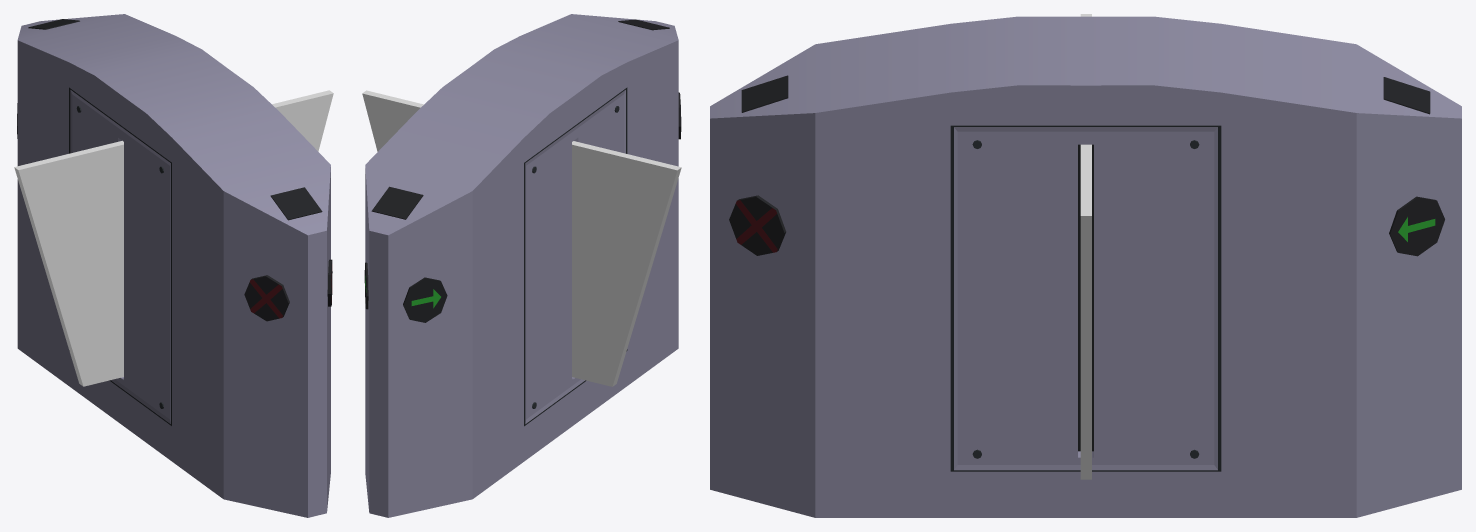
The model's file is SecurityGate-Double_01.fbx.
The picture shows the model from 3 angles, left to right: view 1: azimuth 30°, elevation 25°; view 2: azimuth 150°, elevation 25°; view 3: azimuth 270°, elevation 25°; orthographic projection. The views are drawn at different scales.
Visible parts, largest first — view 1: SecurityGate_Base_Double, Security_Gate_R, Security_Gate_L, SecurityGate_DirectionLights; view 2: SecurityGate_Base_Double, Security_Gate_R, Security_Gate_L, SecurityGate_DirectionLights; view 3: SecurityGate_Base_Double, SecurityGate_DirectionLights, Security_Gate_L.
Part boxes in pixels (x1,y1,x2,y2): SecurityGate_Base_Double: [17, 14, 330, 517]; Security_Gate_R: [14, 140, 123, 386]; Security_Gate_L: [272, 90, 333, 151]; SecurityGate_DirectionLights: [17, 103, 332, 321]; SecurityGate_Base_Double: [365, 14, 678, 517]; Security_Gate_R: [572, 141, 681, 386]; Security_Gate_L: [362, 90, 423, 151]; SecurityGate_DirectionLights: [364, 92, 681, 322]; SecurityGate_Base_Double: [710, 16, 1461, 517]; SecurityGate_DirectionLights: [729, 195, 1444, 256]; Security_Gate_L: [1080, 144, 1091, 479].
Bounding box in the file's own units: 0.9694 × 0.9679 × 1.52.
